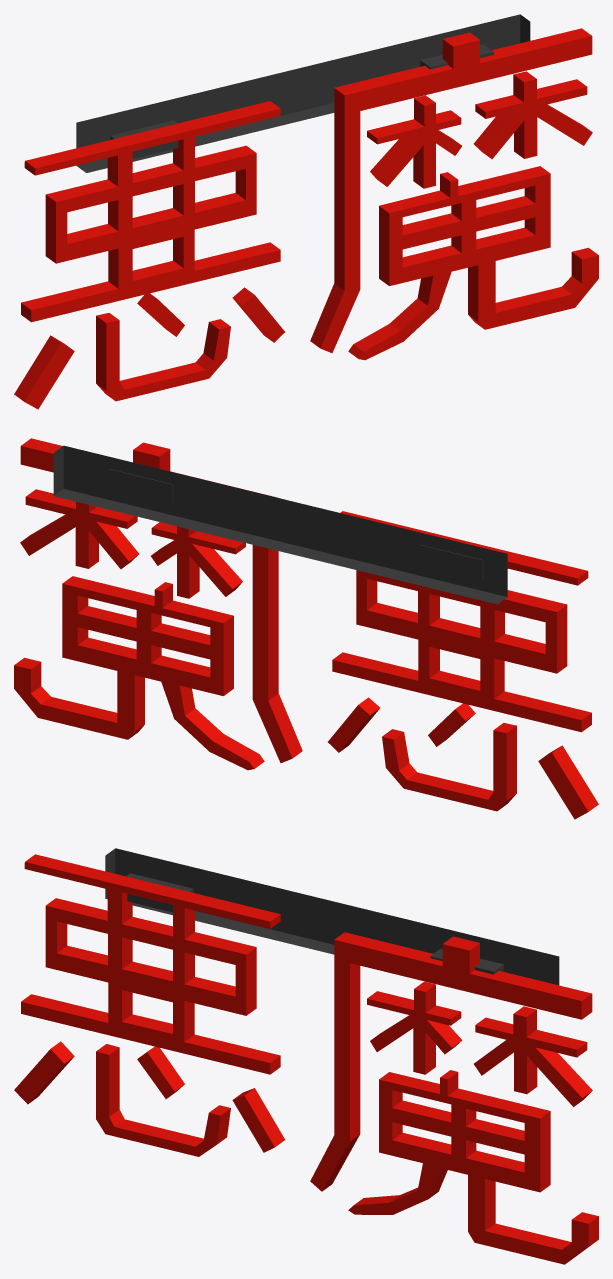
The model's file is NeonDemonSign(Akuma).fbx.
The picture shows the model from 3 angles, top to bottom: view 1: azimuth 30°, elevation 25°; view 2: azimuth 150°, elevation 25°; view 3: azimuth 330°, elevation 25°; orthographic projection.
Visible parts, largest first — view 1: Plane; view 2: Plane; view 3: Plane.
Part boxes in pixels (<box>): Plane: <box>14,14,598,409</box>; Plane: <box>14,438,598,819</box>; Plane: <box>14,848,598,1264</box>.
Size of the model in its own units: 723 by 352 by 53.92.
